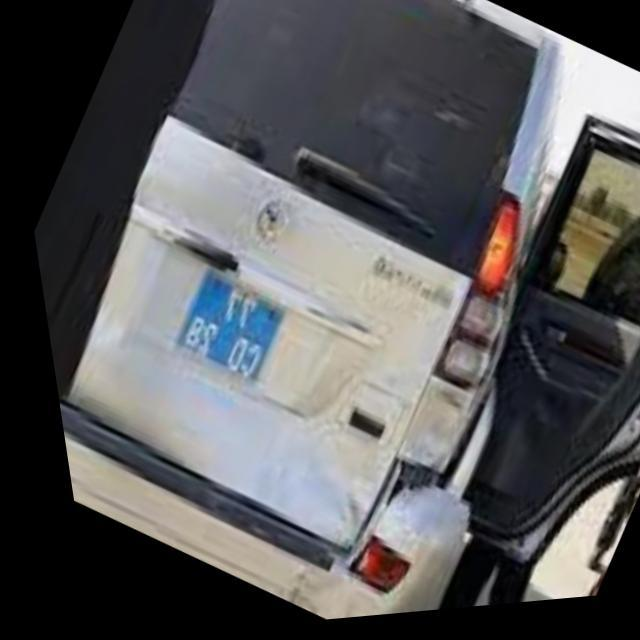dislocated part: (234, 382, 463, 624)
